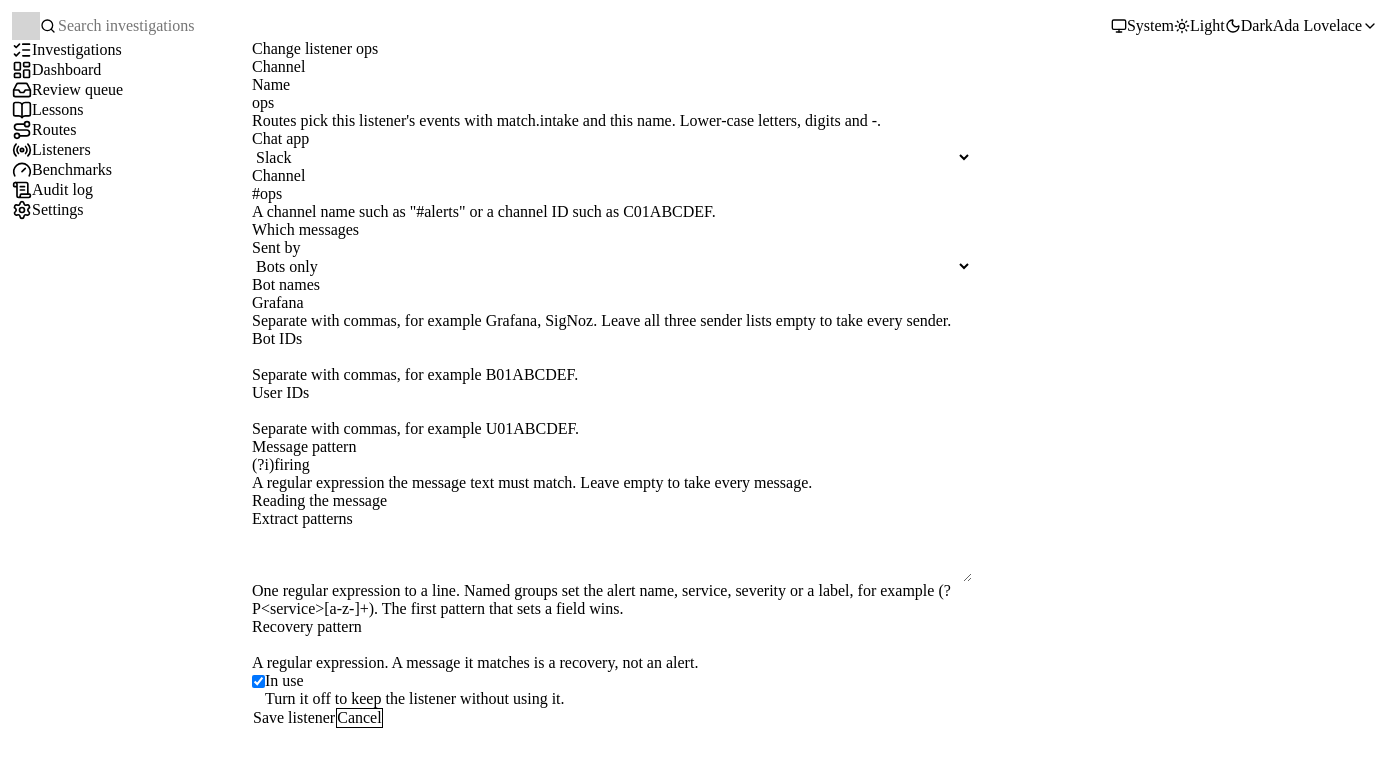
Scenario: the listener form › changes a runtime listener and sends back the version it read
Expected: the field labelled "Name" is disabled, [252,94,972,112]
Expected: the field labelled "Bot names" holds "Grafana", [252,294,972,312]
Replace the text in the field labelled "Channel" with "#ops-2" at (612, 194), box [252,185,972,203]
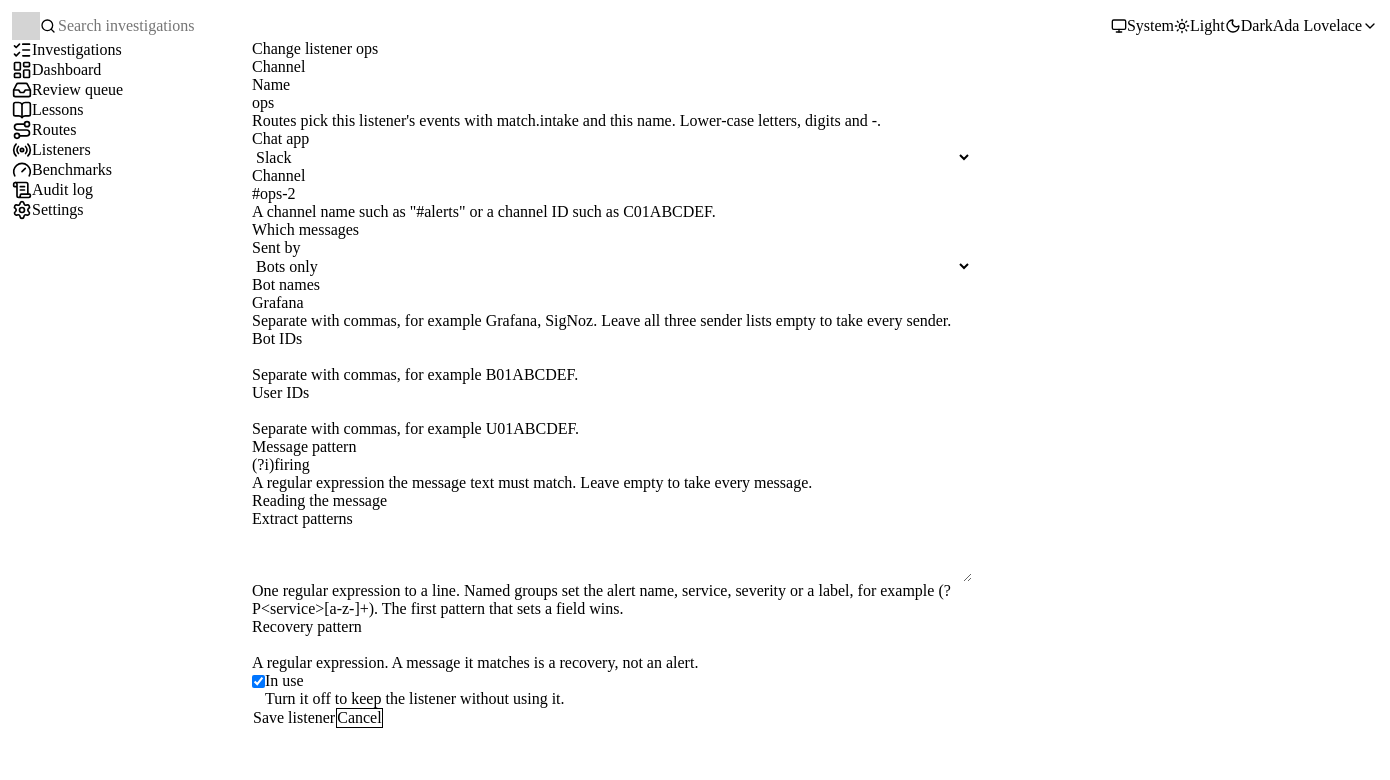
Click the checkbox labelled "In use".
click(258, 681)  # box [252,674,265,688]
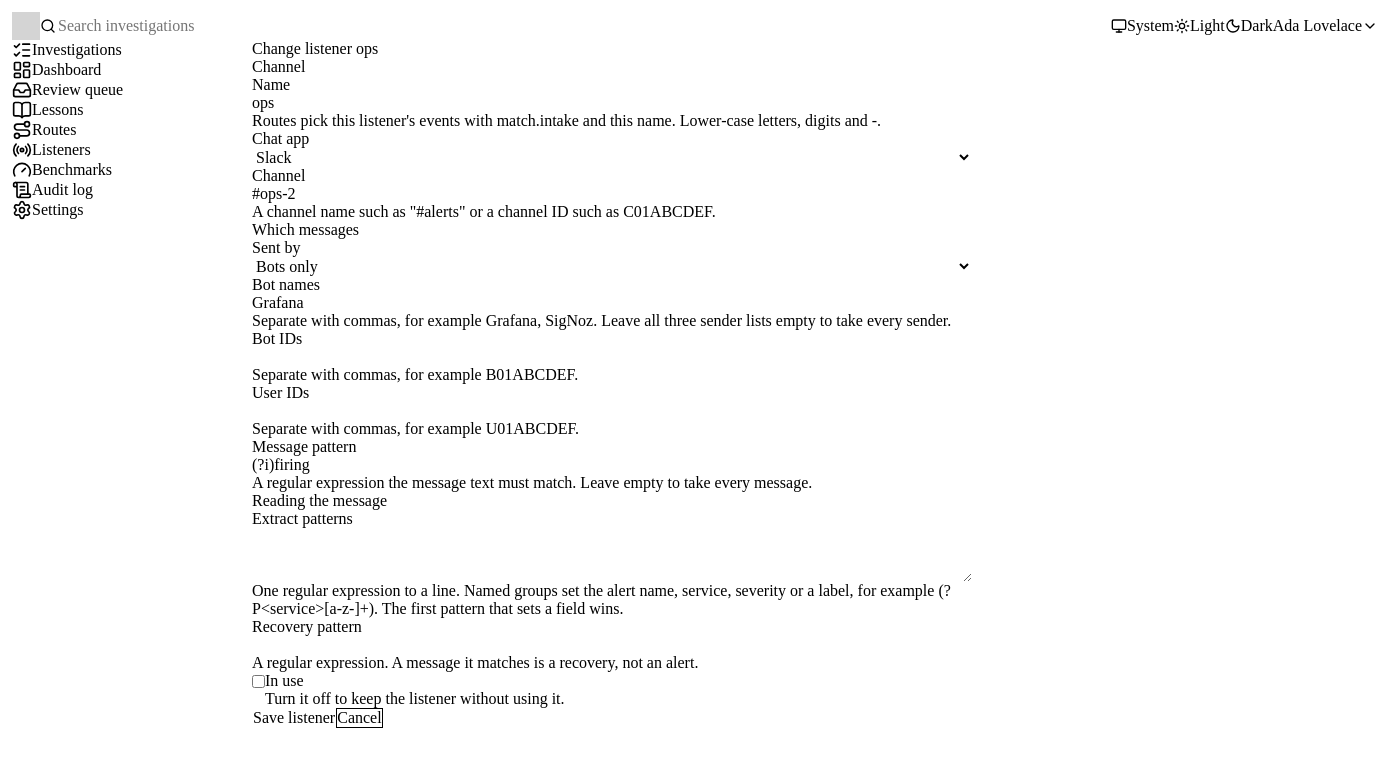
Click the button "Save listener".
click(294, 718)  # box [252,708,336,728]
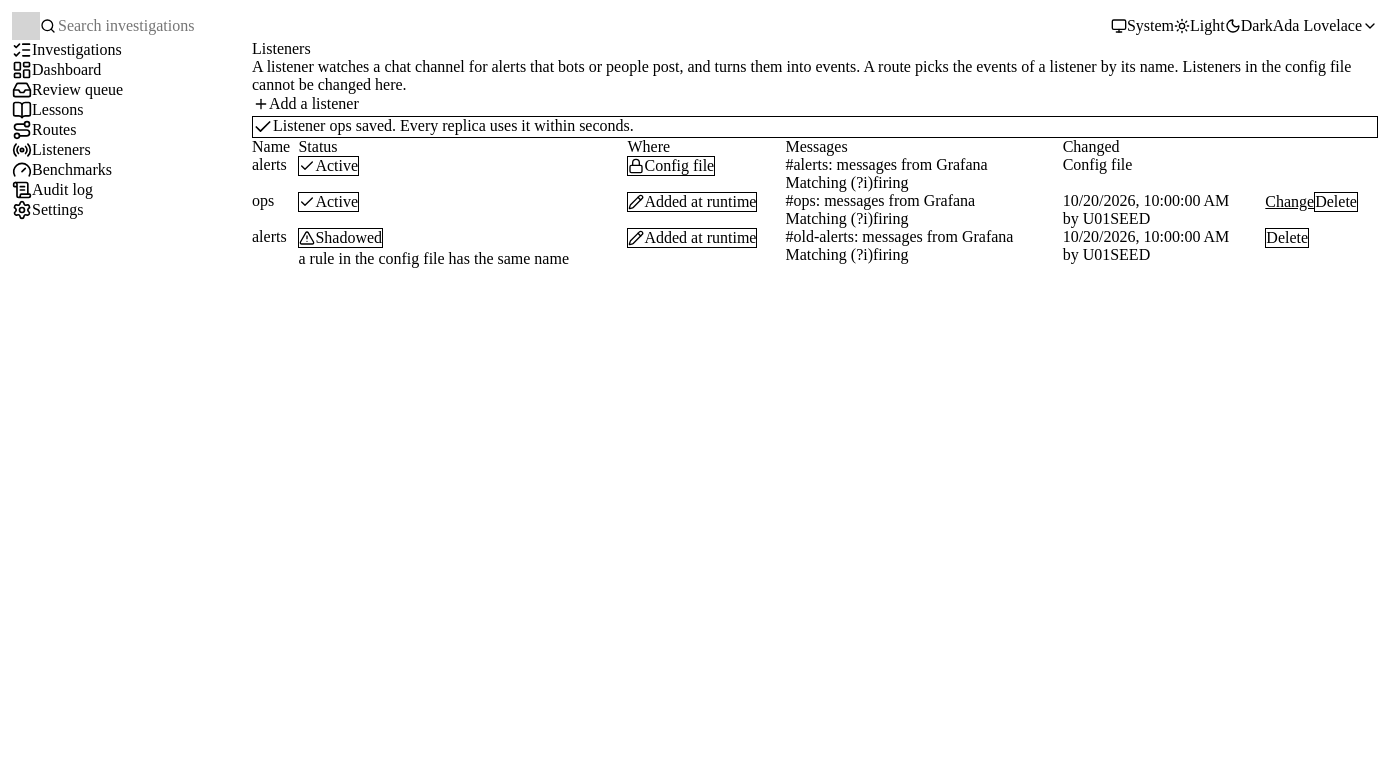
Now the heading "Listener ops saved. Every replica uses it within seconds." is shown, box [273,117,634,135]
